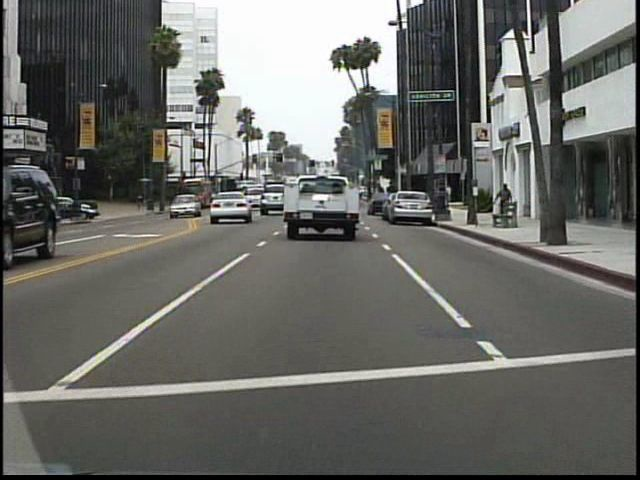person: (494, 181, 514, 223), (136, 189, 147, 214)
